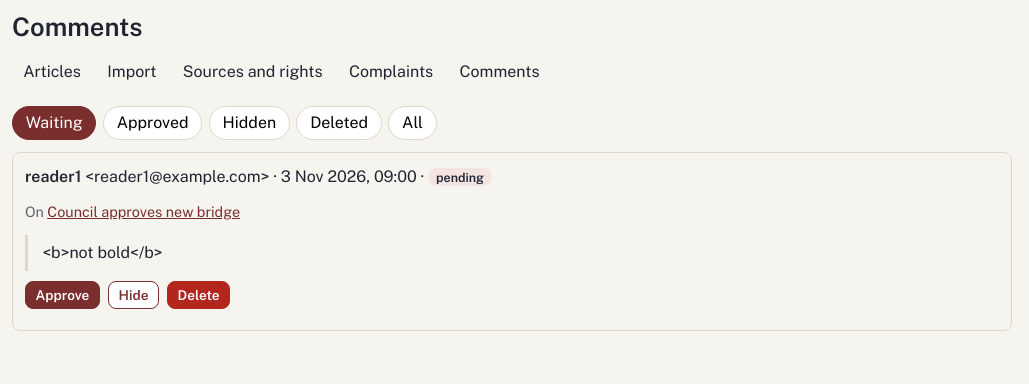
Scenario: Comment moderation › shows the server's reason when an action fails
Click the button "Hide" at (133, 295), box [108,281,159,309]
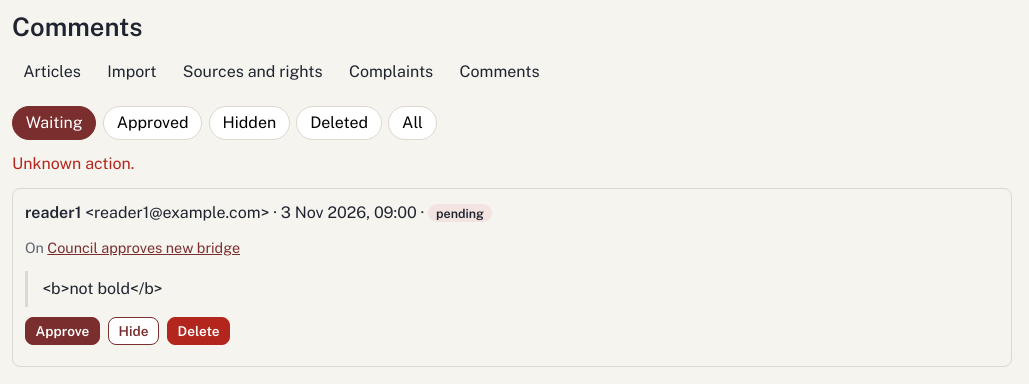
Check: the text "Unknown action." is shown, box [12,154,134,173]
